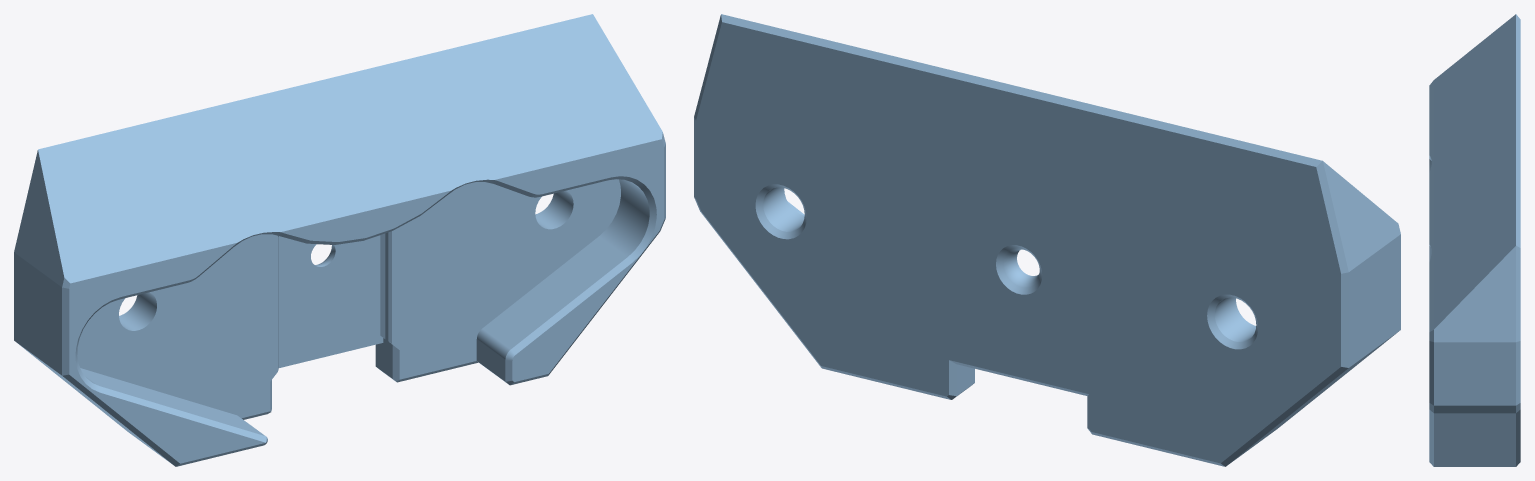
Rendered from Crossbow cutter holder - WW-G2 (Oribiter2 Spacing).gltf.
The picture shows the model from 3 angles, left to right: view 1: azimuth 30°, elevation 25°; view 2: azimuth 150°, elevation 25°; view 3: azimuth 270°, elevation 25°; orthographic projection. The views are drawn at different scales.
Visible parts, largest first — view 1: Crossbow cutter holder - WW-G2 (Oribiter2 Spacing); view 2: Crossbow cutter holder - WW-G2 (Oribiter2 Spacing); view 3: Crossbow cutter holder - WW-G2 (Oribiter2 Spacing).
Boxes of the visible parts, x1,y1,x2,y2 form: Crossbow cutter holder - WW-G2 (Oribiter2 Spacing): [14, 14, 665, 466]; Crossbow cutter holder - WW-G2 (Oribiter2 Spacing): [694, 14, 1400, 466]; Crossbow cutter holder - WW-G2 (Oribiter2 Spacing): [1429, 14, 1520, 466].
Bounding box in the file's own units: 0.0537 × 0.0258 × 0.0082.
